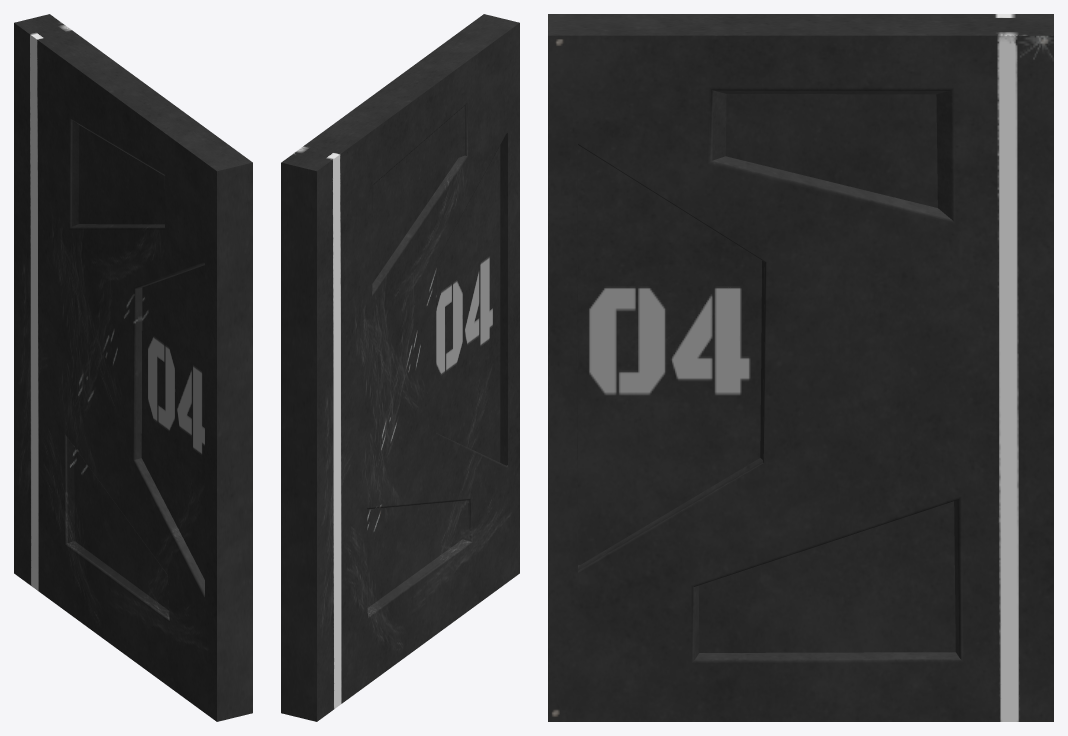
Rendered from 3400Door.fbx.
The picture shows the model from 3 angles, left to right: view 1: azimuth 30°, elevation 25°; view 2: azimuth 150°, elevation 25°; view 3: azimuth 270°, elevation 25°; orthographic projection. The views are drawn at different scales.
Visible parts, largest first — view 1: pCube8; view 2: pCube8; view 3: pCube8.
Boxes of the visible parts, <box> form: pCube8: <box>14,14,252,721</box>; pCube8: <box>281,14,519,721</box>; pCube8: <box>548,14,1053,721</box>.
Bounding box in the file's own units: 0.2178 × 3.19 × 2.13.
Materials: 1 (1 with a texture image).
